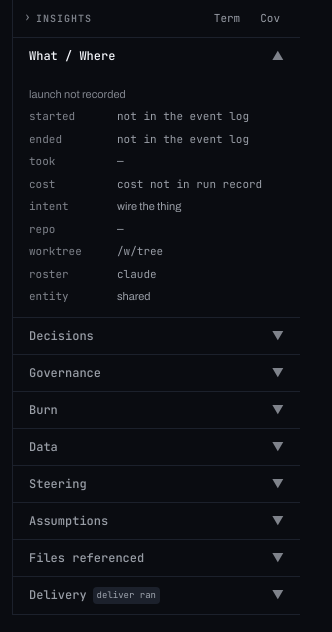
Test case: the rail keeps its shape (revised EC54) › the badge upgrades to the PR claim ONLY once a url is in hand
Expected: the text with test id "run-delivery-badge" reads "deliver ran", [97, 588, 156, 600]
Click the button "Delivery deliver ran ▼".
click(156, 595)  # box [13, 576, 300, 614]
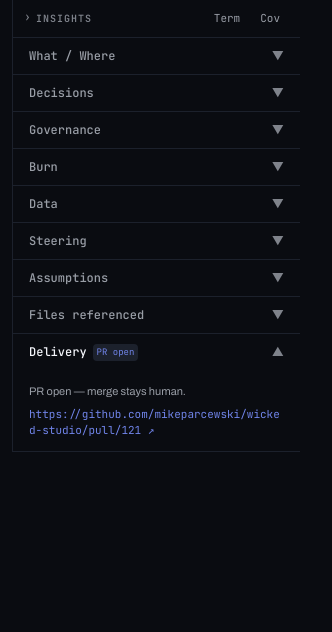
Result: the link with test id "run-delivery-link" is shown at [29, 406, 284, 438]
Result: the text with test id "run-delivery-badge" reads "PR open" at [97, 346, 134, 358]
